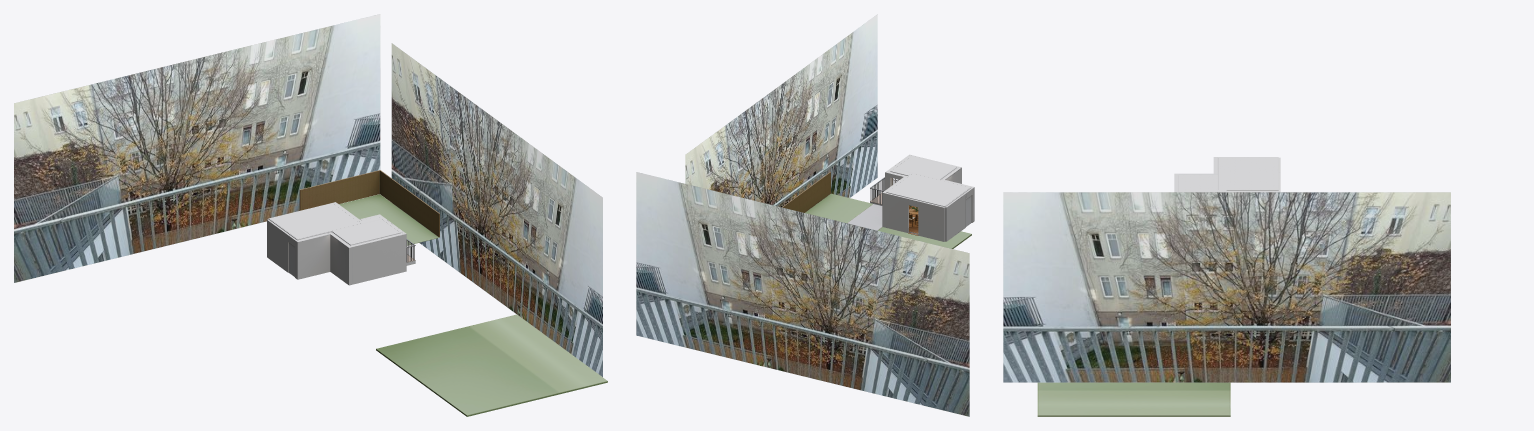
The model's file is wohnkueche.glb.
3 renders of one model, left to right at view 1: azimuth 30°, elevation 25°; view 2: azimuth 150°, elevation 25°; view 3: azimuth 270°, elevation 25°, orthographic. The views are drawn at different scales.
Visible parts, largest first — view 1: Plane.001, Plane, outdoor, interior; view 2: Plane.001, Plane, interior, outdoor; view 3: Plane, outdoor, interior.
Part boxes in pixels (left/top/right/bottom): Plane.001: left=14, top=14, right=380, bottom=282; Plane: left=391, top=43, right=602, bottom=376; outdoor: left=299, top=170, right=607, bottom=416; interior: left=267, top=202, right=406, bottom=285; Plane.001: left=636, top=172, right=969, bottom=416; Plane: left=685, top=14, right=877, bottom=211; interior: left=882, top=154, right=974, bottom=241; outdoor: left=782, top=172, right=971, bottom=248; Plane: left=1003, top=192, right=1450, bottom=382; outdoor: left=1037, top=382, right=1230, bottom=416; interior: left=1174, top=157, right=1280, bottom=192.
Bounding box in the file's own units: 26 × 13.7 × 30.
Materials: 23 (23 with a texture image).
